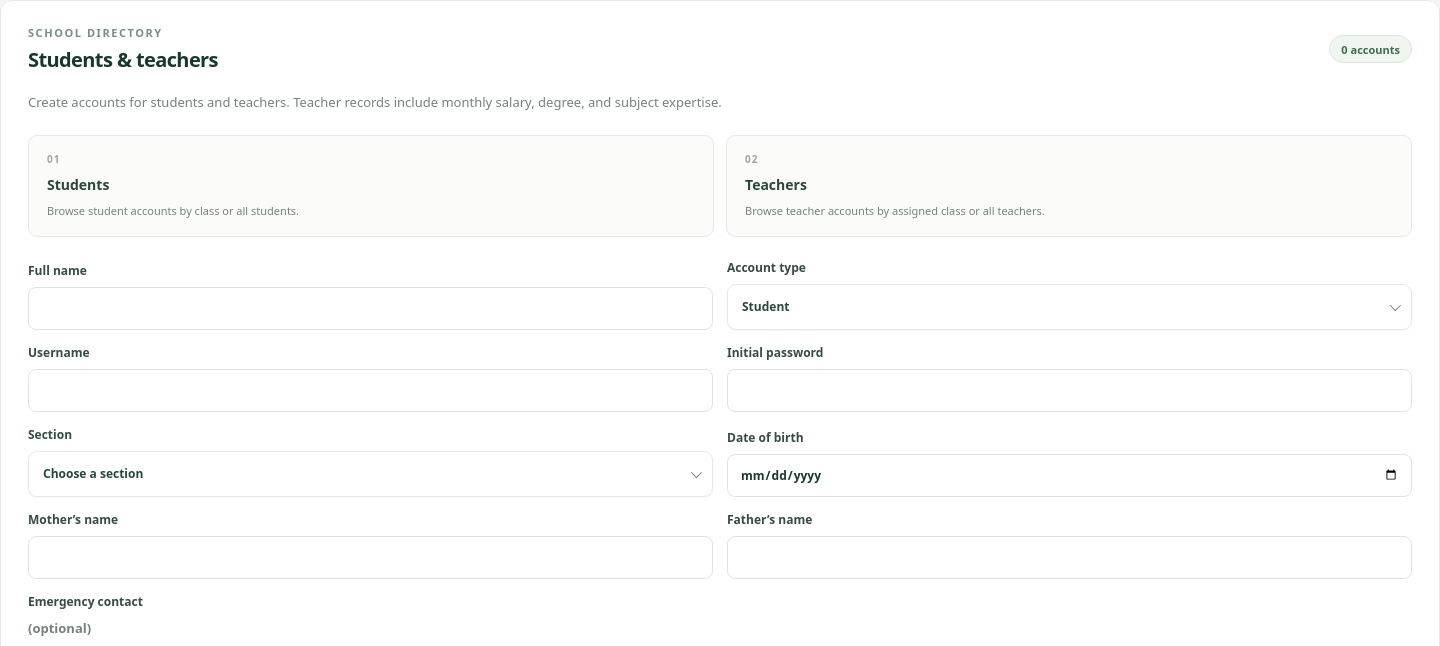
Test: student enrollment form › requires student birth and parent details while keeping teacher enrollment unchanged
Click the dropdown named "Account type" at x=766, y=306, box [727,284,1412,330]
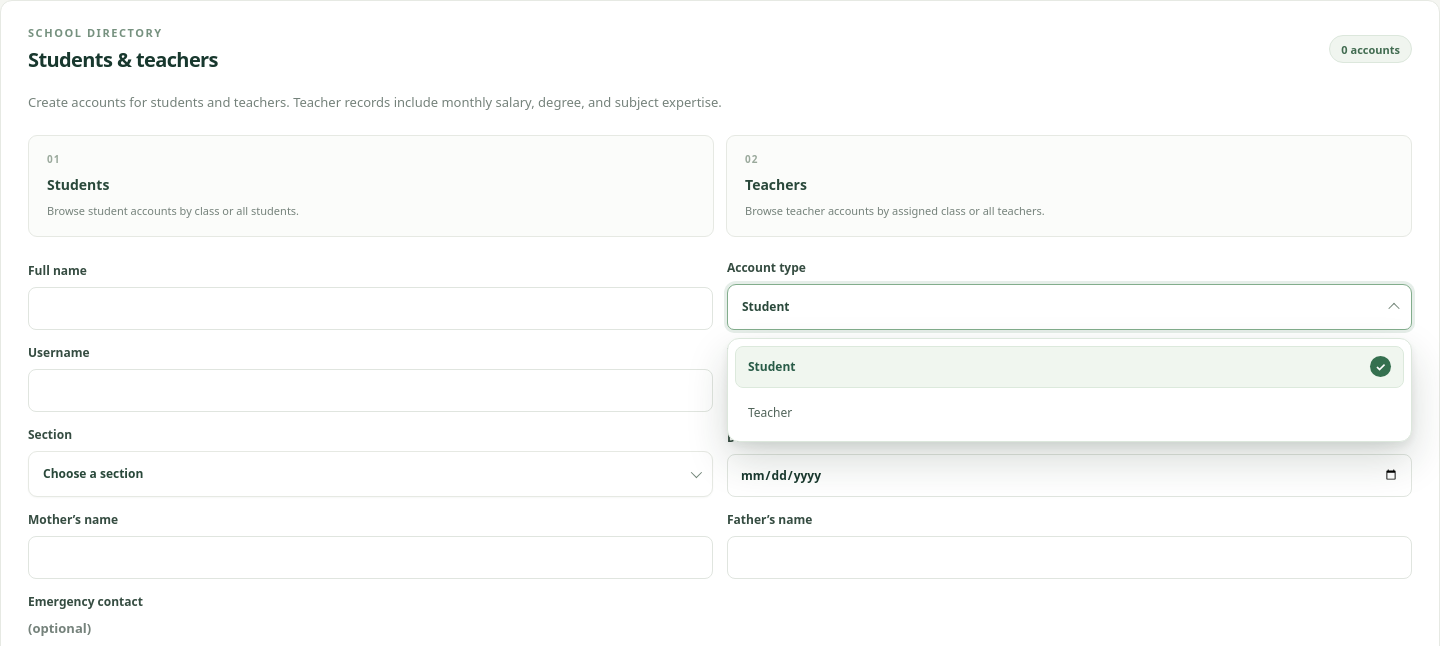
Click the option "Teacher" at x=770, y=413, box [748,404,792,421]
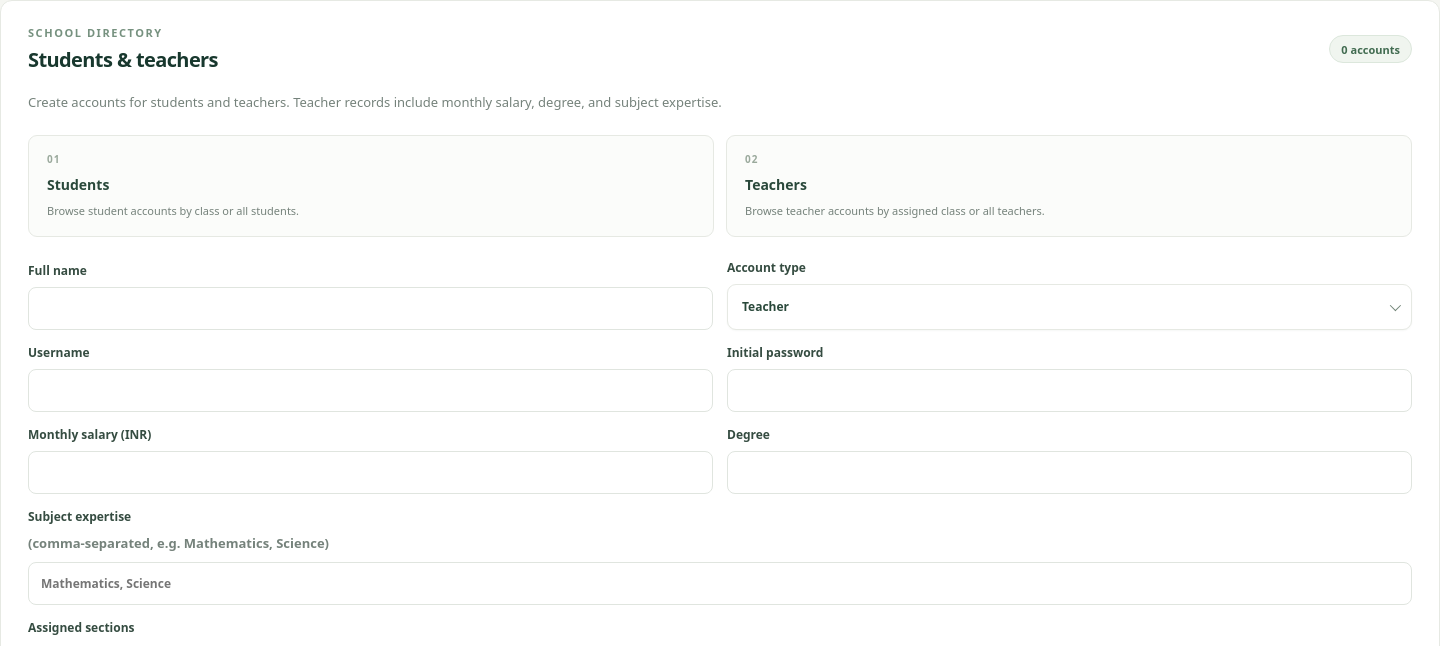
expect the label labelled "Date of birth" is gone: met
